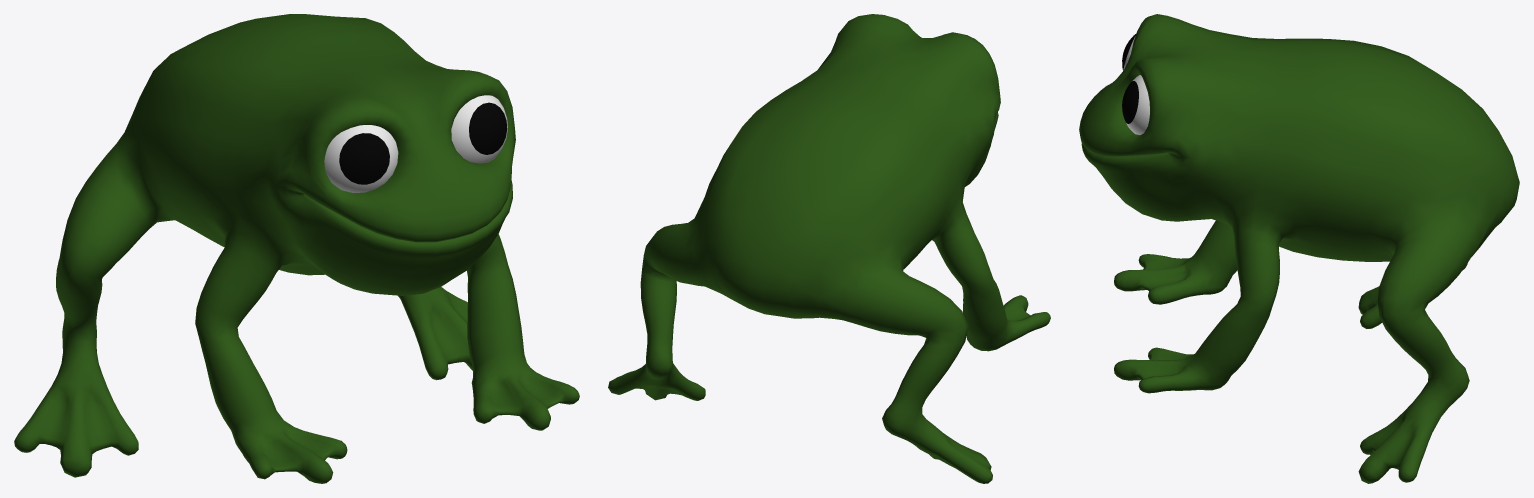
File: FROG.fbx
The picture shows the model from 3 angles, left to right: view 1: azimuth 30°, elevation 25°; view 2: azimuth 150°, elevation 25°; view 3: azimuth 270°, elevation 25°; orthographic projection. The views are drawn at different scales.
Visible parts, largest first — view 1: 青蛙; view 2: 青蛙; view 3: 青蛙.
Part boxes in pixels (box(x1,y1,x2,y2)): 青蛙: box(14, 14, 579, 483); 青蛙: box(608, 14, 1050, 483); 青蛙: box(1079, 14, 1519, 483).
Bounding box in the file's own units: 116 × 97.2 × 108.
